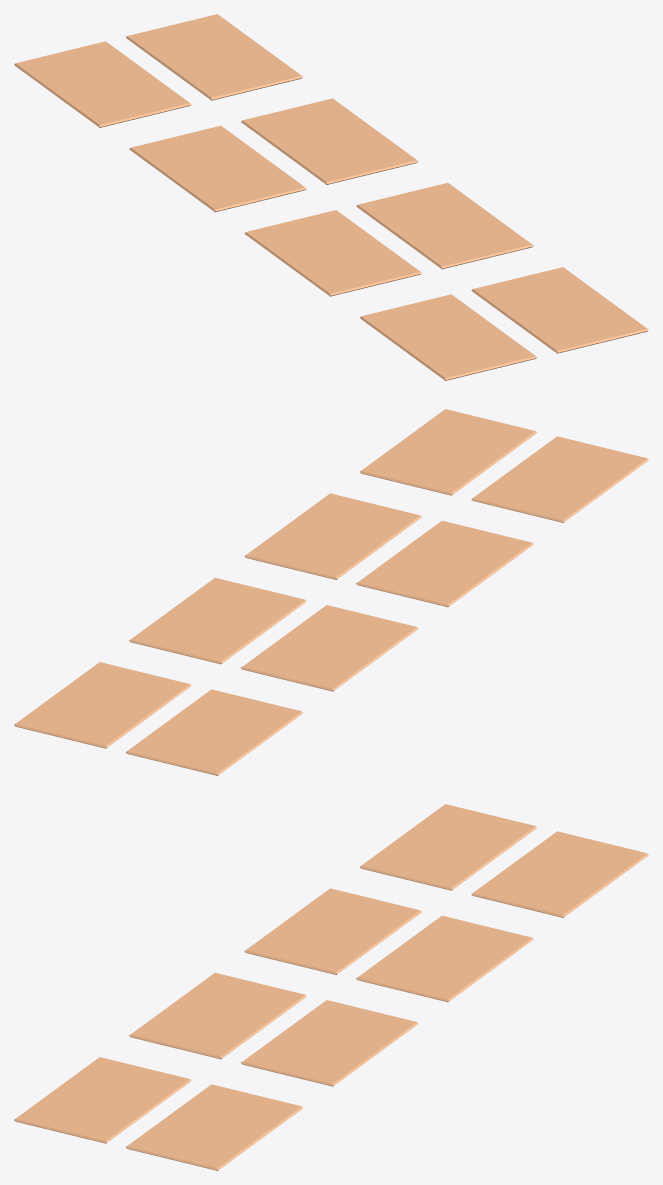
3 views of the same model, one above another, from view 1: azimuth 30°, elevation 25°; view 2: azimuth 150°, elevation 25°; view 3: azimuth 330°, elevation 25° (orthographic).
Visible parts, largest first — view 1: Path stone.003, Path stone.004, Path stone, Path stone.001, Path stone.002, Path stone.005, Path stone.006, Path stone.007; view 2: Path stone.002, Path stone.005, Path stone, Path stone.001, Path stone.003, Path stone.004, Path stone.006, Path stone.007; view 3: Path stone.002, Path stone.005, Path stone, Path stone.001, Path stone.003, Path stone.004, Path stone.006, Path stone.007.
Part boxes in pixels (<box>): Path stone.003: <box>356,182,533,269</box>; Path stone.004: <box>129,125,306,212</box>; Path stone: <box>360,294,536,380</box>; Path stone.001: <box>471,267,648,353</box>; Path stone.002: <box>244,210,421,296</box>; Path stone.005: <box>241,98,418,184</box>; Path stone.006: <box>14,41,191,127</box>; Path stone.007: <box>126,14,302,100</box>; Path stone.002: <box>356,520,533,607</box>; Path stone.005: <box>129,577,306,664</box>; Path stone: <box>471,436,648,522</box>; Path stone.001: <box>360,409,536,495</box>; Path stone.003: <box>244,493,421,579</box>; Path stone.004: <box>241,605,418,691</box>; Path stone.006: <box>126,689,302,775</box>; Path stone.007: <box>14,662,191,748</box>; Path stone.002: <box>129,972,306,1059</box>; Path stone.005: <box>356,915,533,1002</box>; Path stone: <box>14,1057,191,1143</box>; Path stone.001: <box>126,1084,302,1170</box>; Path stone.003: <box>241,1000,418,1086</box>; Path stone.004: <box>244,888,421,974</box>; Path stone.006: <box>360,804,536,890</box>; Path stone.007: <box>471,831,648,917</box>.
Size of the model in its own units: 77 by 1 by 281.
